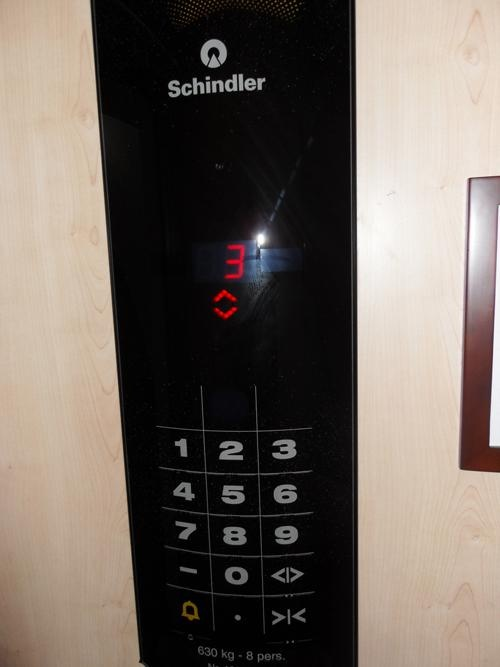-: (162, 546, 212, 593)
.: (209, 591, 264, 636)
0: (206, 551, 263, 596)
1: (154, 426, 206, 471)
2: (203, 426, 259, 472)
3: (256, 427, 312, 473)
4: (157, 466, 207, 514)
5: (204, 471, 260, 516)
6: (258, 471, 314, 517)
7: (159, 507, 209, 553)
8: (206, 511, 261, 558)
9: (257, 513, 313, 556)
alarm: (164, 584, 214, 635)
close: (263, 594, 315, 638)
empty: (253, 382, 312, 434), (199, 383, 259, 432), (151, 382, 208, 432)
led: (153, 208, 308, 344)
open: (260, 554, 314, 596)
